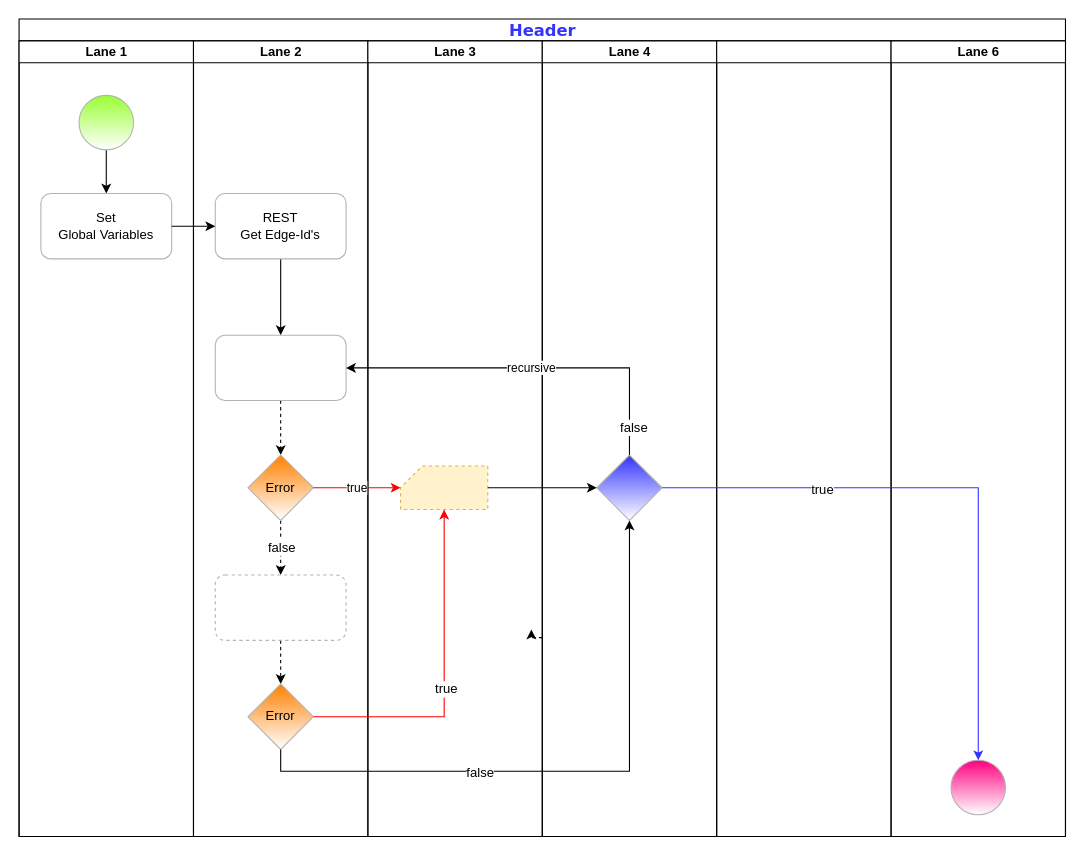
The diagram is 1085 pixels wide and 856 high, and some of its shapes have lost their labels. Each missing label, with the centre of its shape:
End: (x=629, y=487)
Export 2 GIT/FTP: (x=280, y=607)
Lane 5: (x=803, y=438)
REST Get Edge/LbaaS Configuration: (x=280, y=367)
Write 2 Log: (x=443, y=487)
